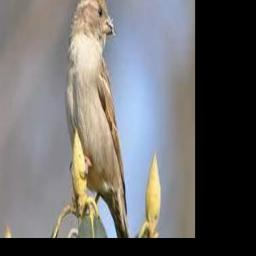Sparrow: (65, 0, 130, 237)
